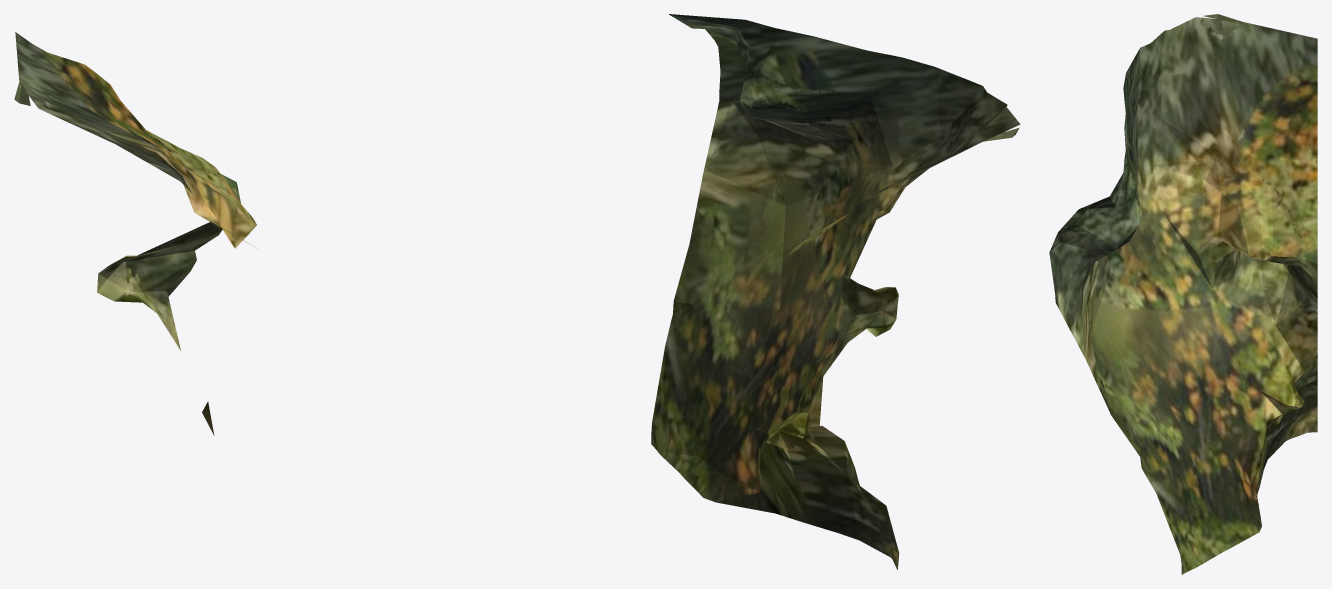
3 views of the same model, side by side, from view 1: azimuth 30°, elevation 25°; view 2: azimuth 150°, elevation 25°; view 3: azimuth 270°, elevation 25° (orthographic). The views are drawn at different scales.
Bounding box in the file's own units: 2.84 × 2.95 × 1.85.
3 materials, 3 textured.
